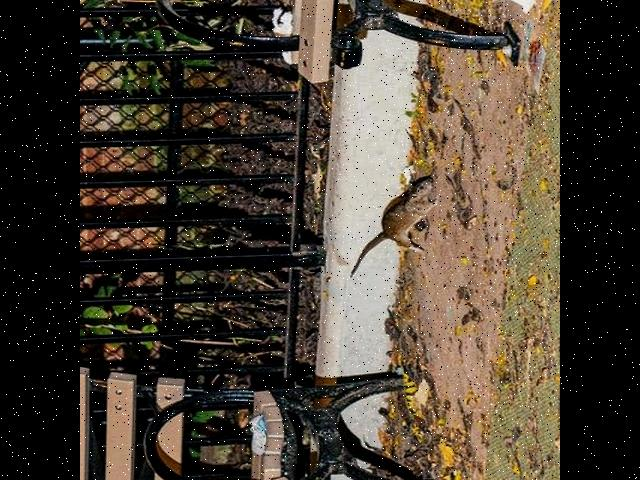Tikus: (344, 168, 440, 287)
